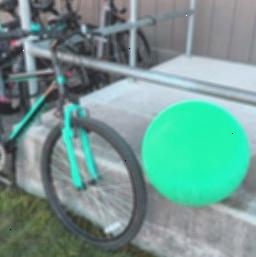algae: (138, 98, 252, 206)
